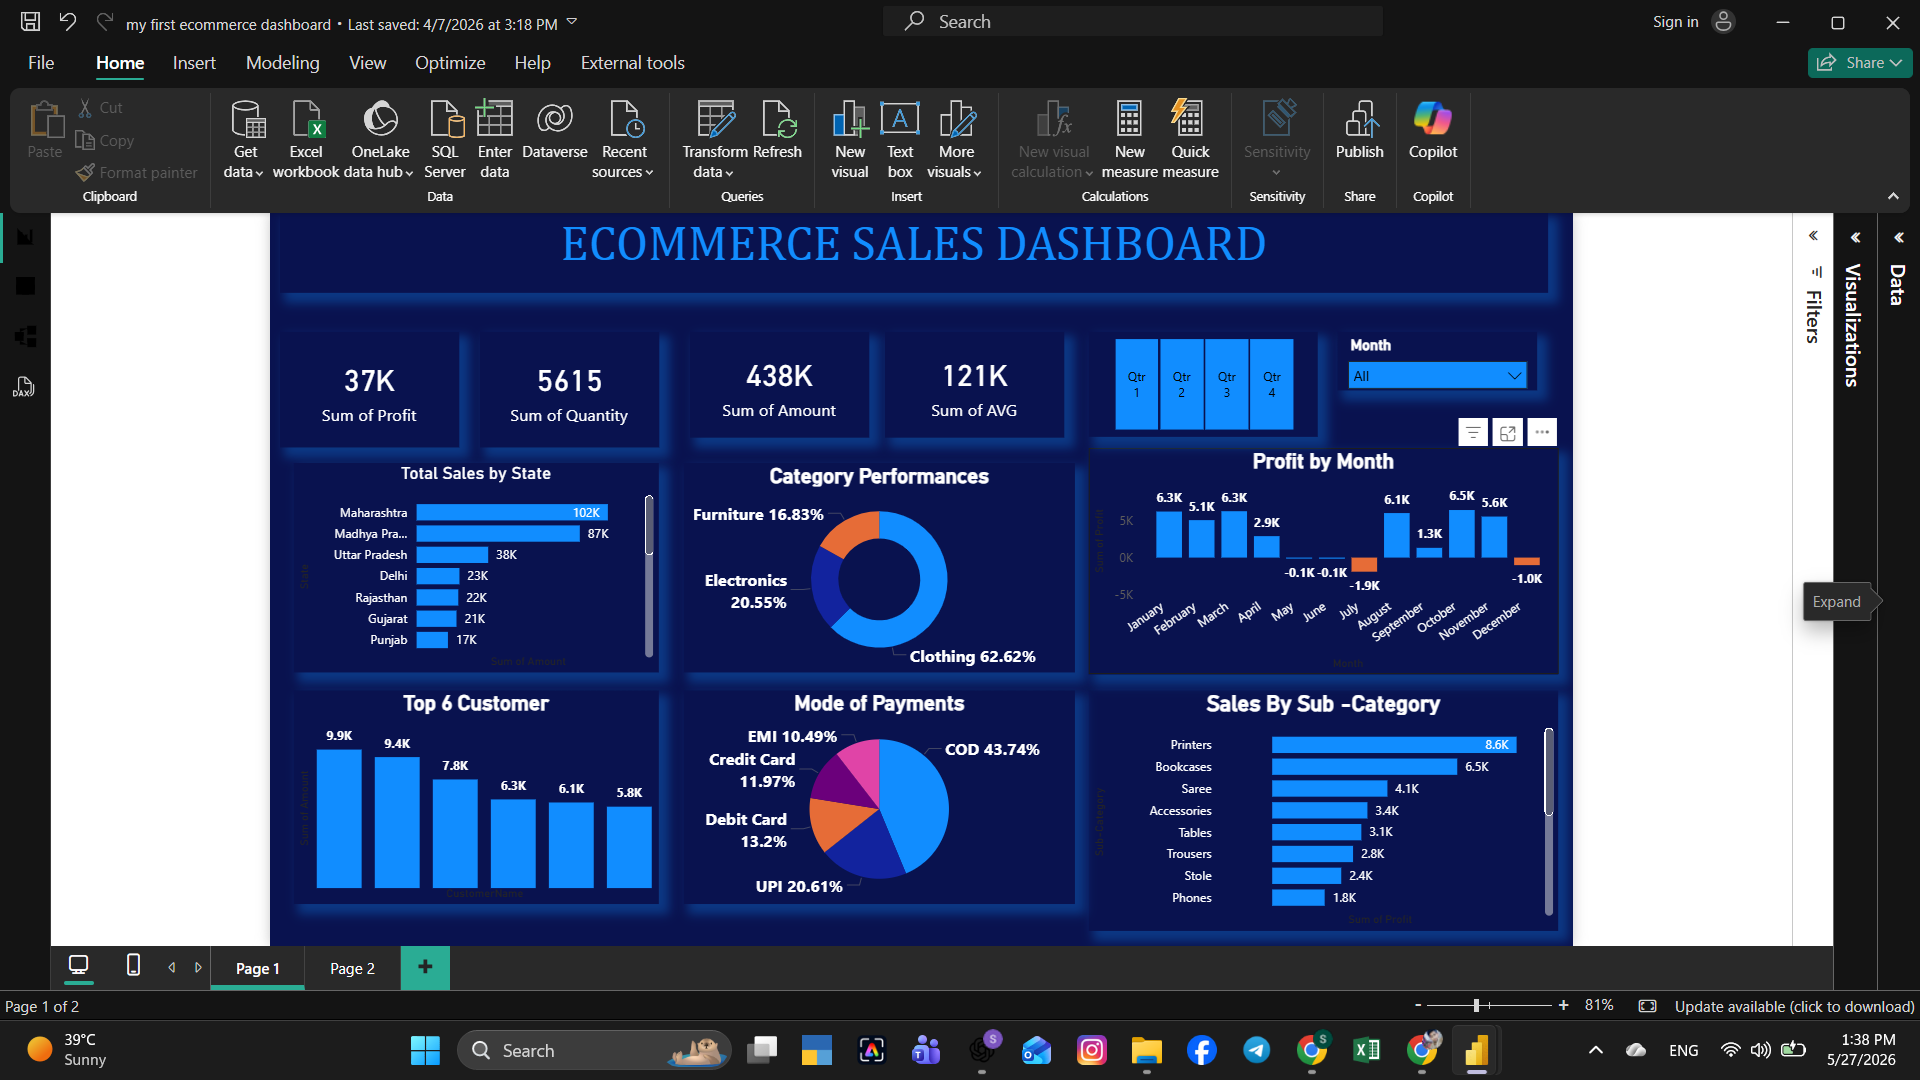

The dashboard page shown, as its layout file describes it:
{"tool":"powerbi","page":{"name":"Page 1","canvas":[1280,720],"ordinal":0},"visuals":[{"type":"textbox","box":[9.6,0,1244.6,78.2],"z":0},{"type":"card","fields":{"Values":["Sum(Details (1).Profit)"]},"box":[9.6,116.6,175.6,113.9],"z":1},{"type":"card","fields":{"Values":["Sum(Details (1).Quantity)"]},"box":[205.8,116.6,175.6,113.9],"z":2},{"type":"card","fields":{"Values":["Sum(Details (1).Amount)"]},"box":[411.7,116.6,175.6,104.3],"z":3},{"type":"card","fields":{"Values":["Sum(Details (1).AVG)"]},"box":[603.8,116.6,175.6,104.3],"z":4},{"type":"clusteredBarChart","title":" Total Sales by State","fields":{"Y":["Sum(Details (1).Amount)"],"Category":["Orders (2).State"]},"box":[23.3,245.6,358.1,205.8],"z":5},{"type":"donutChart","title":"Category Performances","fields":{"Y":["Sum(Details (1).Quantity)"],"Category":["Details (1).Category"]},"box":[406.2,245.6,384.2,205.8],"z":6},{"type":"clusteredBarChart","title":"Sales By Sub -Category","fields":{"Category":["Details (1).Sub-Category"],"Y":["Sum(Details (1).Profit)"]},"box":[804.1,469.3,461.1,236],"z":7},{"type":"columnChart","title":"Top 6 Customer","fields":{"Y":["Sum(Details (1).Amount)"],"Category":["Orders (2).CustomerName"]},"box":[23.3,469.3,358.1,209.9],"z":8},{"type":"pieChart","title":"Mode of Payments","fields":{"Y":["Sum(Details (1).Quantity)"],"Category":["Details (1).PaymentMode"]},"box":[406.2,469.3,384.2,209.9],"z":9},{"type":"columnChart","title":"Profit by Month","fields":{"Category":["Orders (2).Order Date.Variation.Date Hierarchy.Month"],"Y":["Sum(Details (1).Profit)"]},"box":[804.1,230.5,461.1,222.3],"z":10},{"type":"slicer","fields":{"Values":["Orders (2).Order Date.Variation.Date Hierarchy.Month"]},"box":[1048.4,116.6,196.2,57.6],"z":11},{"type":"slicer","fields":{"Values":["Orders (2).Order Date.Variation.Date Hierarchy.Quarter"]},"box":[804.1,116.6,225,102.9],"z":12}]}

Visuals, with their boxes on the page's 1280x720 design canvas (x1, y1, x2, y2). These are canvas units, not pixel positions in the 1920x1080 screenshot, which may show the page scaled, cropped or inside an application window:
textbox: [left=10, top=0, right=1254, bottom=78]
card - Sum(Details (1).Profit): [left=10, top=117, right=185, bottom=230]
card - Sum(Details (1).Quantity): [left=206, top=117, right=381, bottom=230]
card - Sum(Details (1).Amount): [left=412, top=117, right=587, bottom=221]
card - Sum(Details (1).AVG): [left=604, top=117, right=779, bottom=221]
" Total Sales by State" clusteredBarChart: [left=23, top=246, right=381, bottom=451]
"Category Performances" donutChart: [left=406, top=246, right=790, bottom=451]
"Sales By Sub -Category" clusteredBarChart: [left=804, top=469, right=1265, bottom=705]
"Top 6 Customer" columnChart: [left=23, top=469, right=381, bottom=679]
"Mode of Payments" pieChart: [left=406, top=469, right=790, bottom=679]
"Profit by Month" columnChart: [left=804, top=230, right=1265, bottom=453]
slicer - Orders (2).Order Date.Variation.Date Hierarchy.Month: [left=1048, top=117, right=1245, bottom=174]
slicer - Orders (2).Order Date.Variation.Date Hierarchy.Quarter: [left=804, top=117, right=1029, bottom=220]
